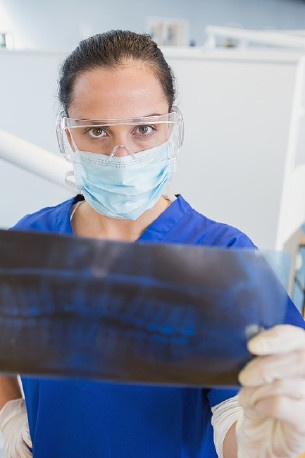Mask: (70, 111, 177, 218)
